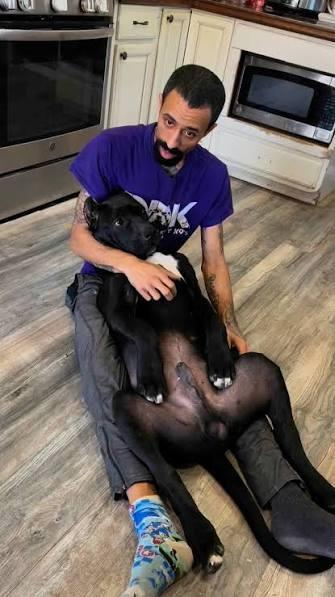adult_dog: (80, 182, 335, 577)
non-dog: (65, 65, 250, 597)
